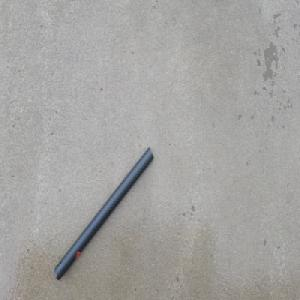LuggagePart: (53, 146, 154, 281)
